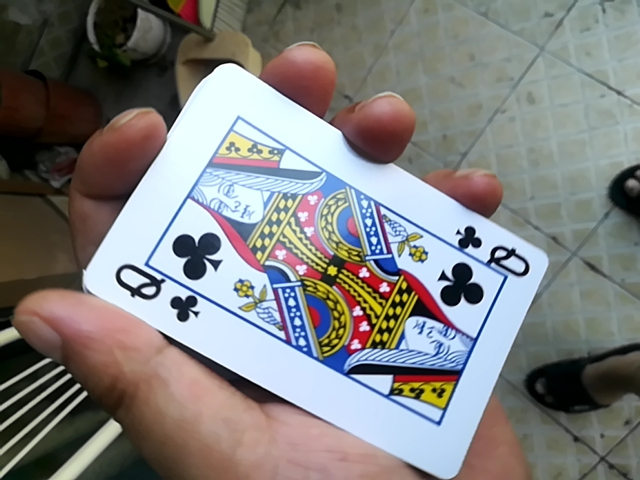mh q: (70, 58, 550, 473)
